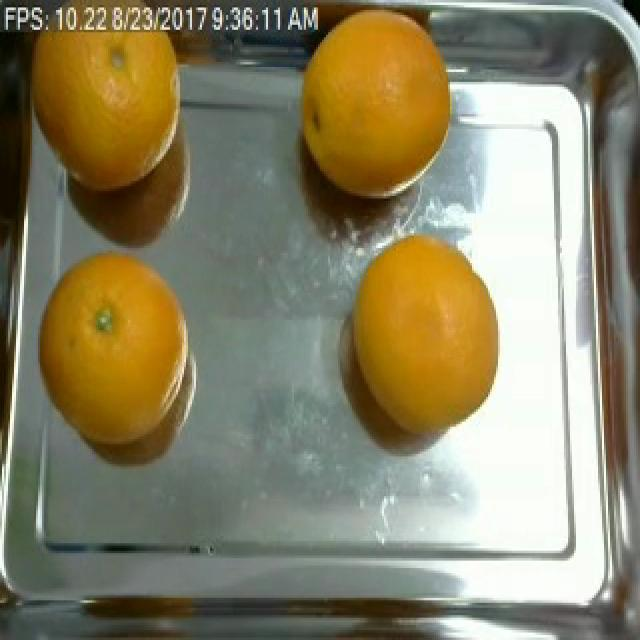Fruit: (26, 233, 200, 447), (280, 0, 460, 206), (14, 12, 198, 211), (76, 576, 208, 638)
